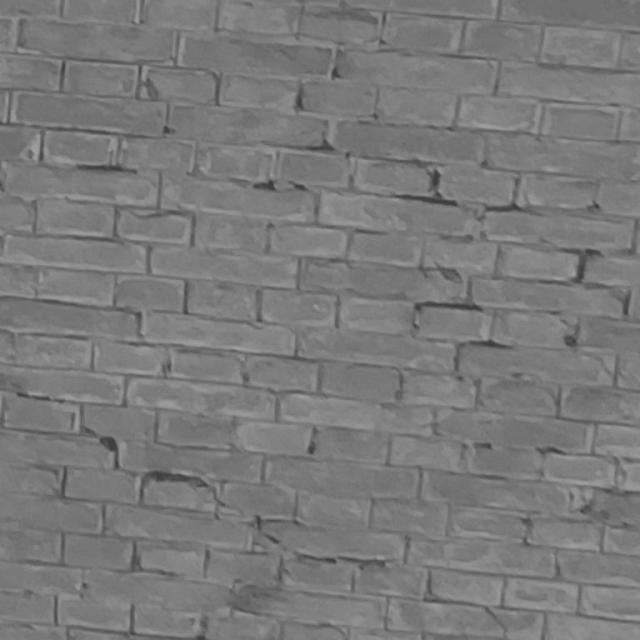crack: (15, 392, 385, 570), (483, 606, 507, 640)
